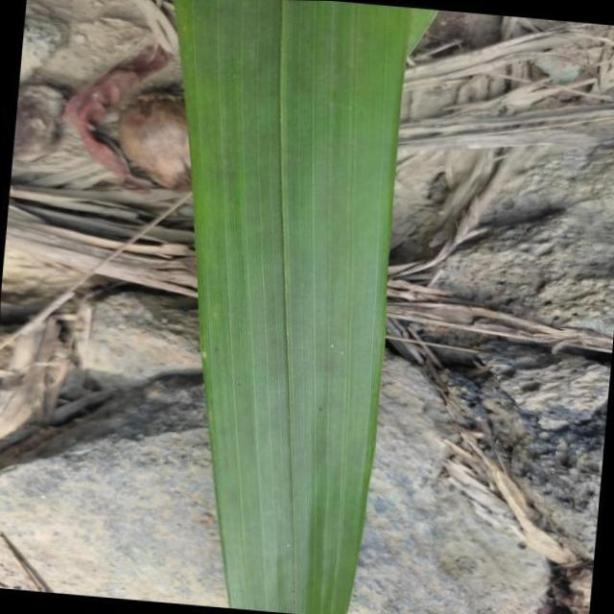Healthy: (178, 5, 410, 614)
